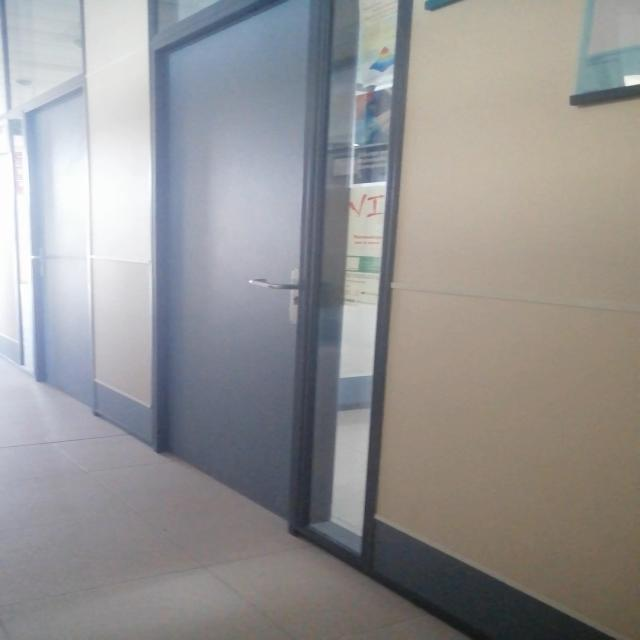door_handle: (239, 277, 305, 292)
